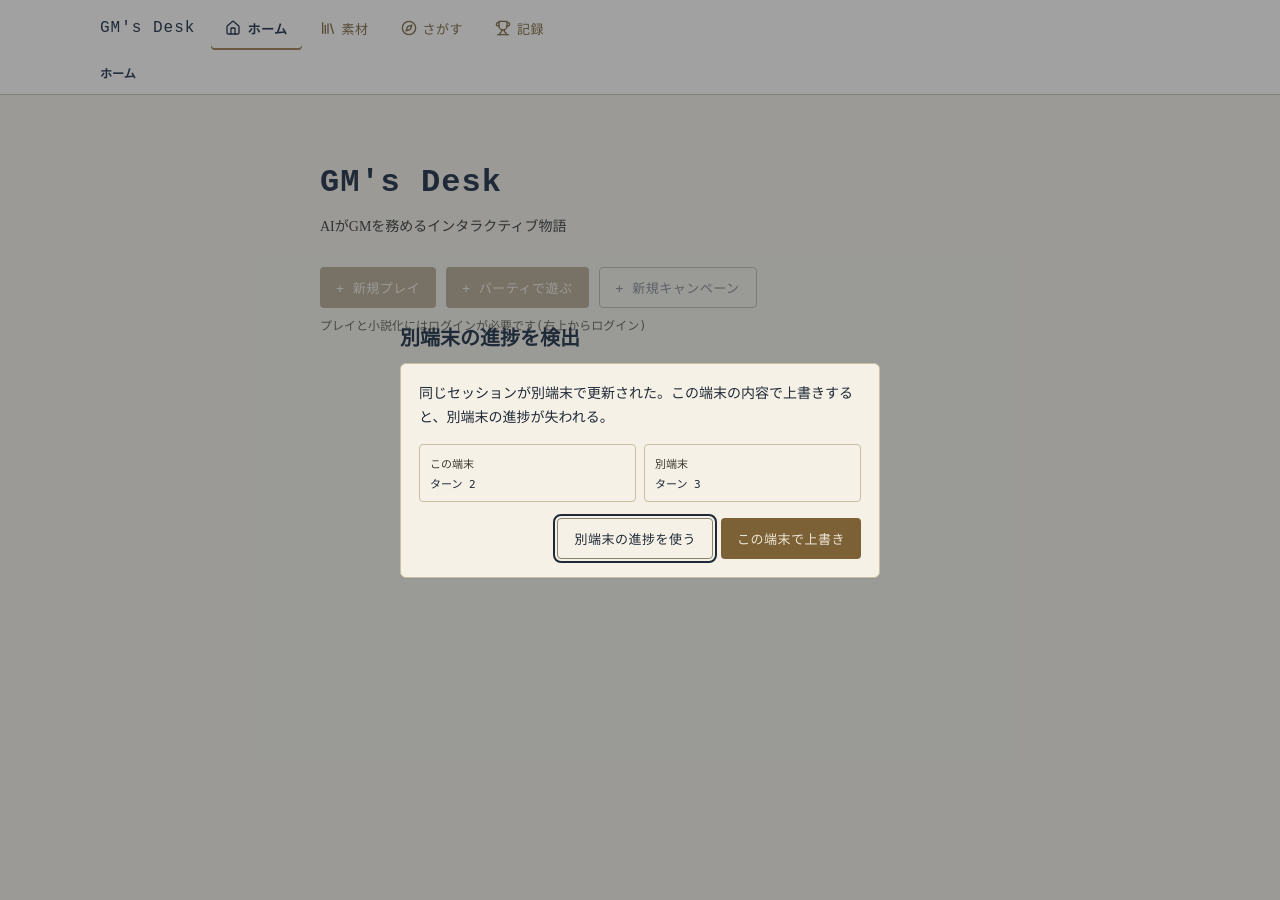
Scenario: App › shows overwrite warning and can adopt progress from another device
This screenshot has width=1280, height=900.
Check: the heading "別端末の進捗を検出" is shown, box [400, 328, 580, 351]
Check: the text "同じセッションが別端末で更新された。この端末の内容で上書きすると、別端末の進捗が失われる。" is shown, box [419, 382, 861, 430]
Click the button "別端末の進捗を使う" at (635, 538), box [558, 518, 713, 559]
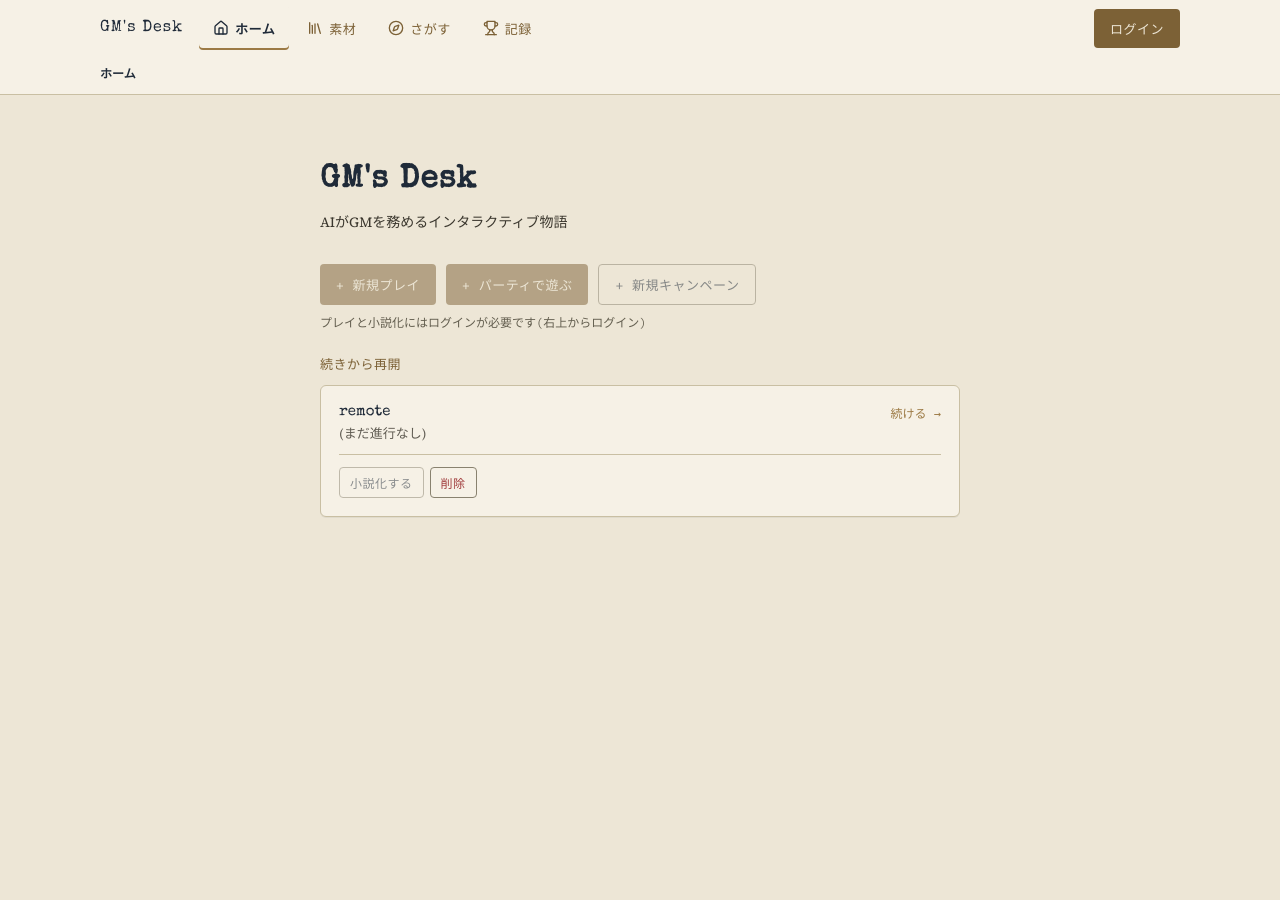
Check: the heading "別端末の進捗を検出" is gone
